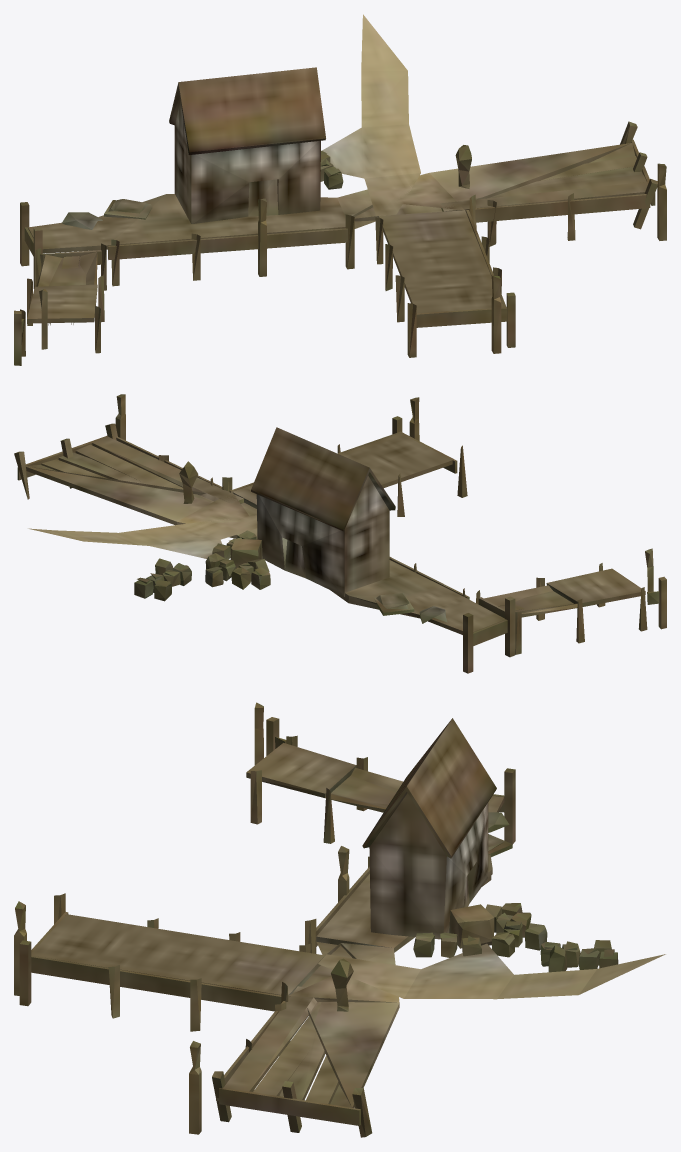
Rendered from dock_game_lod1.glb.
The picture shows the model from 3 angles, top to bottom: view 1: azimuth 30°, elevation 25°; view 2: azimuth 150°, elevation 25°; view 3: azimuth 270°, elevation 25°; orthographic projection. The views are drawn at different scales.
Parts seen in each view (by area): view 1: geometry_0; view 2: geometry_0; view 3: geometry_0.
Part boxes in pixels (x1,y1,x2,y2): geometry_0: [14, 14, 666, 365]; geometry_0: [14, 394, 666, 673]; geometry_0: [14, 702, 665, 1137].
Size of the model in its own units: 45.92 by 11.21 by 33.37.
Materials: 1 (1 with a texture image).
